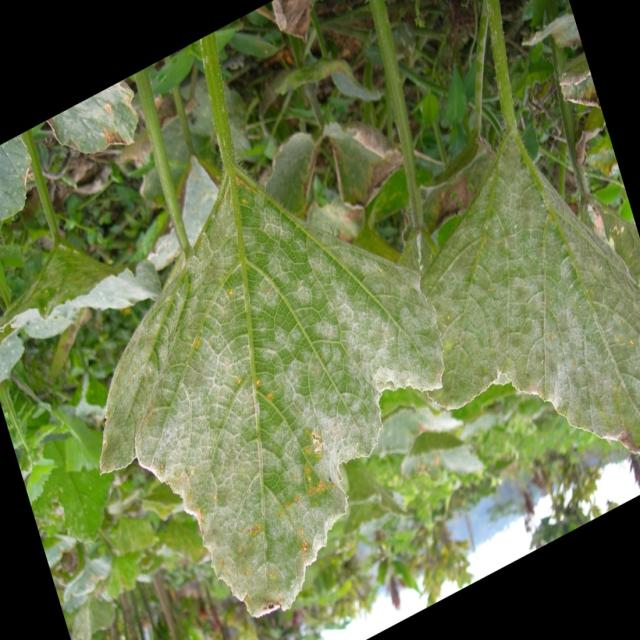Powdery Mildew: (100, 166, 445, 618)
